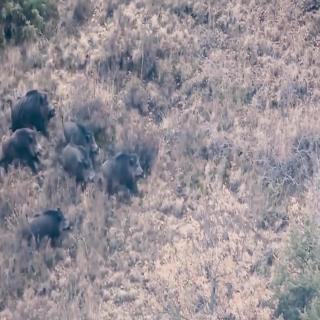Pig: (0, 125, 46, 185), (6, 78, 58, 124), (110, 144, 148, 206), (22, 200, 70, 238), (68, 118, 104, 166), (63, 138, 96, 186)
